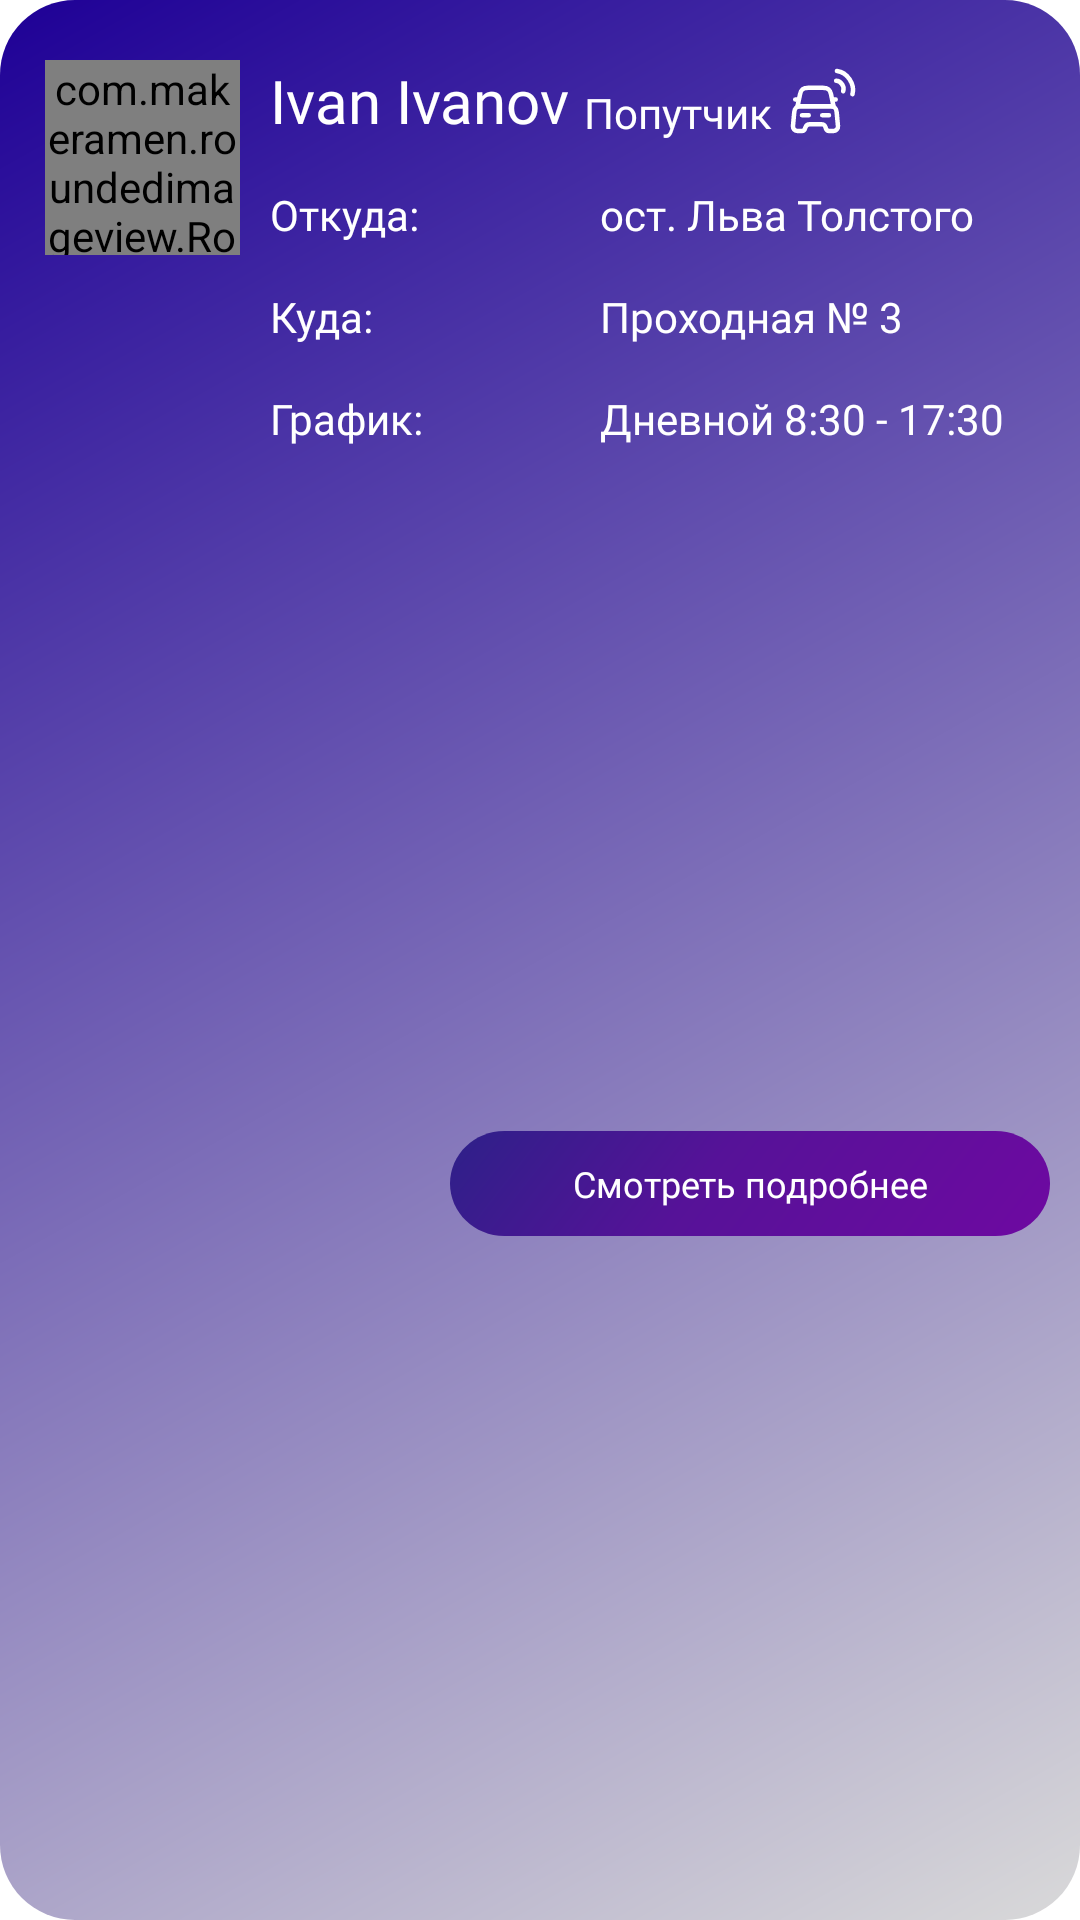

Where to tap for icons on this 1080px x 1920px app screen, as [x,y]:
driver: [823,101]
